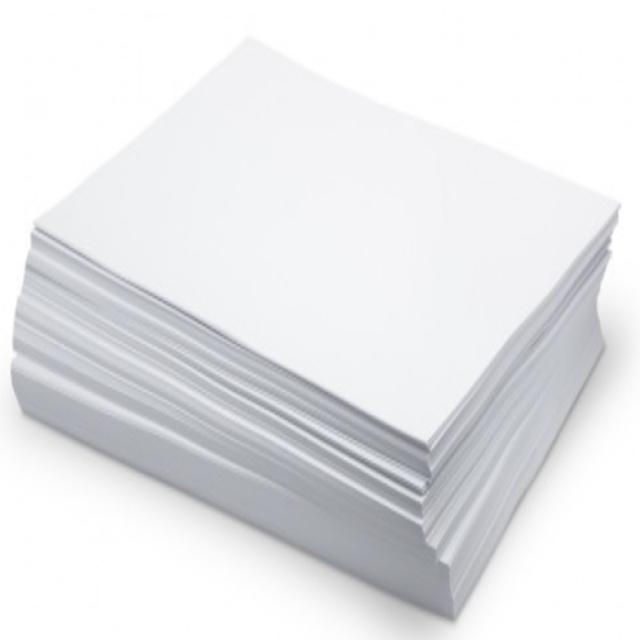biodegradable: (6, 9, 633, 630)
